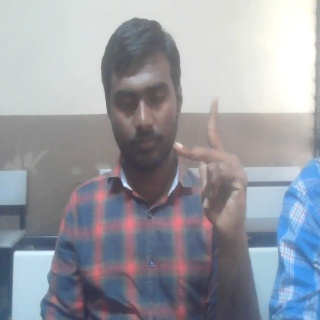Okay: (170, 93, 249, 242)
